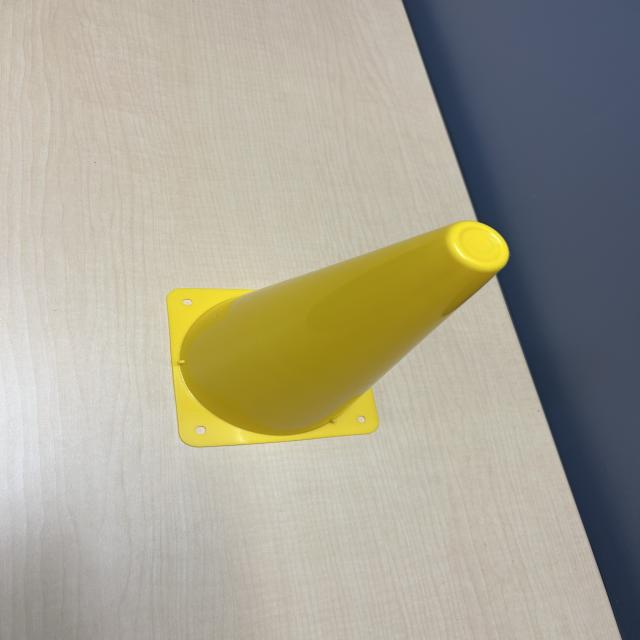yellow cone: (148, 217, 521, 450)
